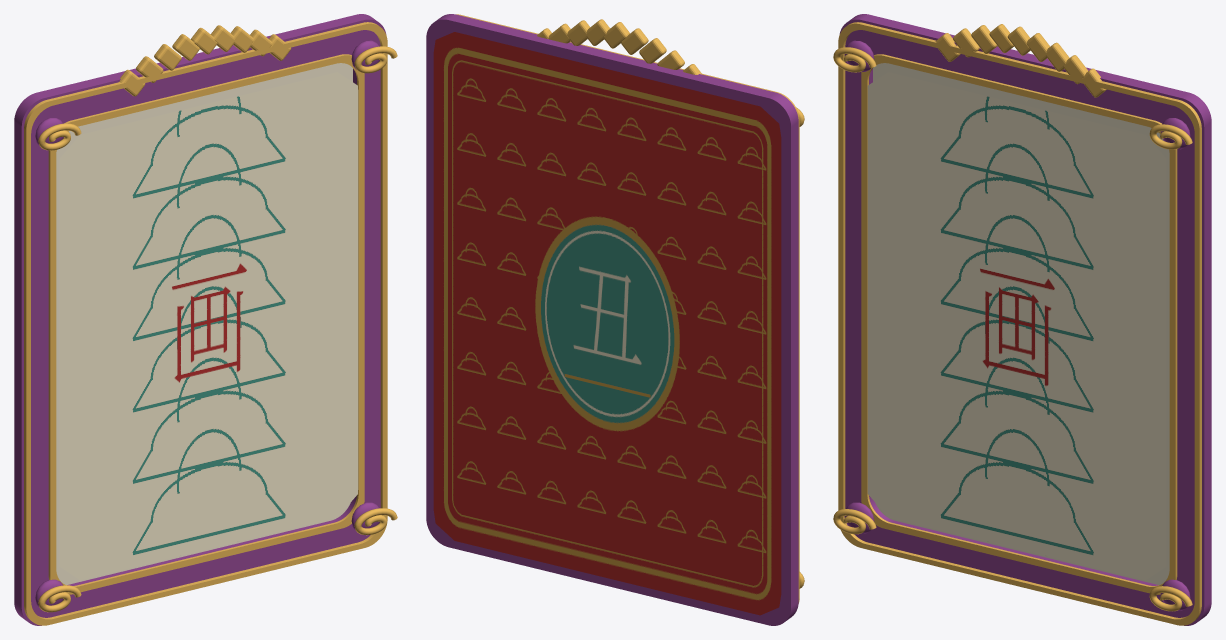
File: joker-frame-epic.glb
3 views of the same model, side by side, from view 1: azimuth 30°, elevation 25°; view 2: azimuth 150°, elevation 25°; view 3: azimuth 330°, elevation 25° (orthographic).
Visible parts, largest first — view 1: ReplaceableIllustration, Frame_epic; view 2: Frame_epic; view 3: ReplaceableIllustration, Frame_epic.
Boxes of the visible parts, x1,y1,x2,y2 form: ReplaceableIllustration: (59, 72, 358, 580); Frame_epic: (14, 14, 397, 625); Frame_epic: (426, 14, 804, 625); ReplaceableIllustration: (867, 72, 1166, 580); Frame_epic: (833, 14, 1211, 625).
Bounding box in the file's own units: 2.1 × 3.07 × 0.218.
Materials: 5 (2 with a texture image).
